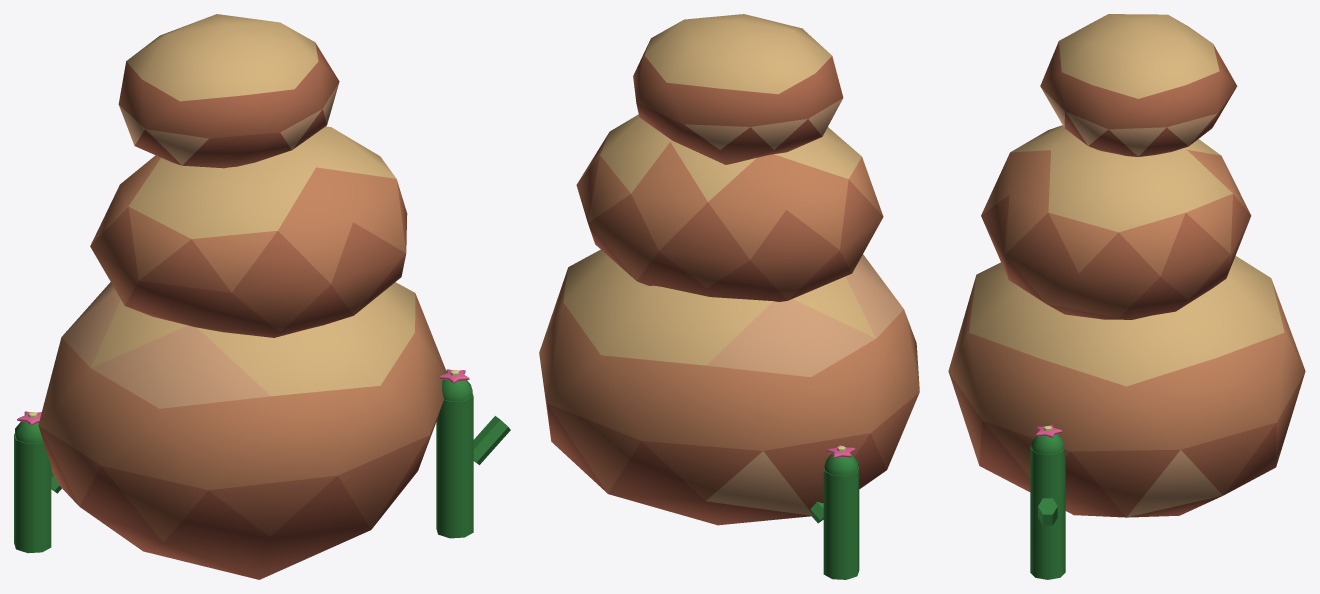
File: citrus-deco3.glb
3 views of the same model, side by side, from view 1: azimuth 30°, elevation 25°; view 2: azimuth 150°, elevation 25°; view 3: azimuth 270°, elevation 25° (orthographic). The views are drawn at different scales.
Visible parts, largest first — view 1: citrus-deco3; view 2: citrus-deco3; view 3: citrus-deco3.
Boxes of the visible parts, x1=… form: citrus-deco3: x1=14, y1=14, x2=510, y2=579; citrus-deco3: x1=539, y1=14, x2=919, y2=579; citrus-deco3: x1=948, y1=14, x2=1305, y2=579.
Bounding box in the file's own units: 2.16 × 2.63 × 1.82.
